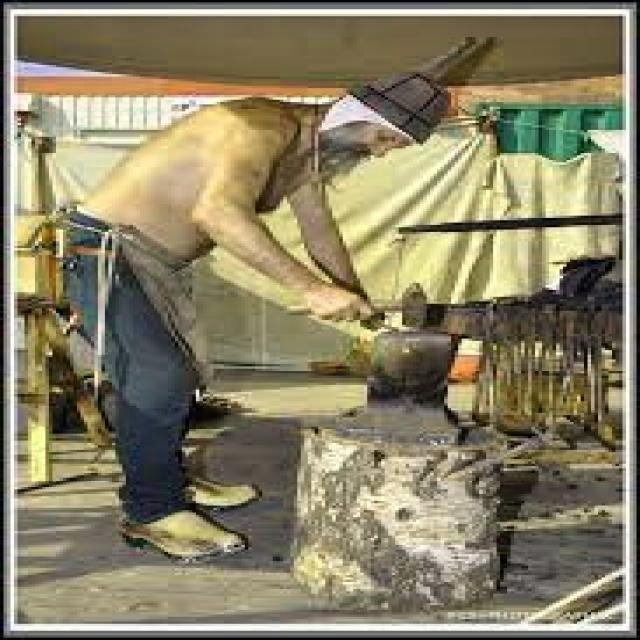hammer: (255, 268, 448, 338)
